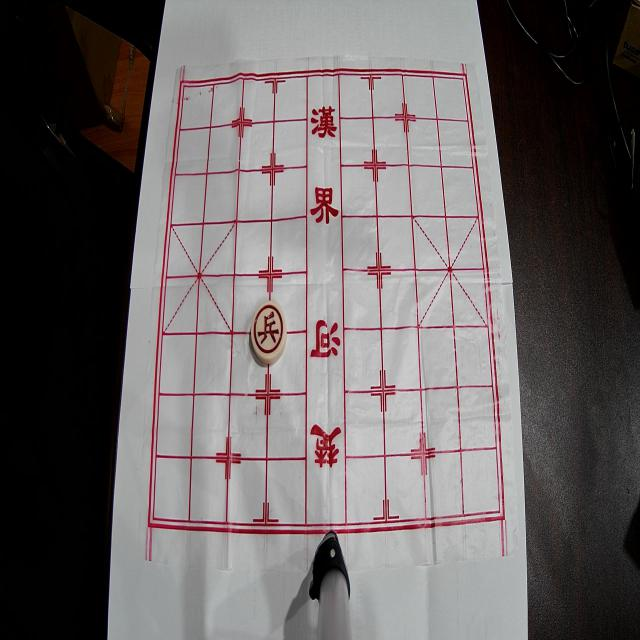red-soldier: (251, 301, 287, 363)
